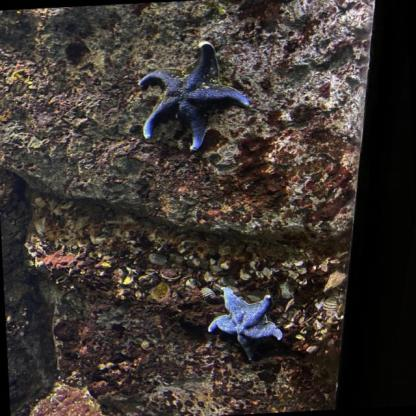starfish: (135, 39, 252, 154), (205, 284, 284, 363)
